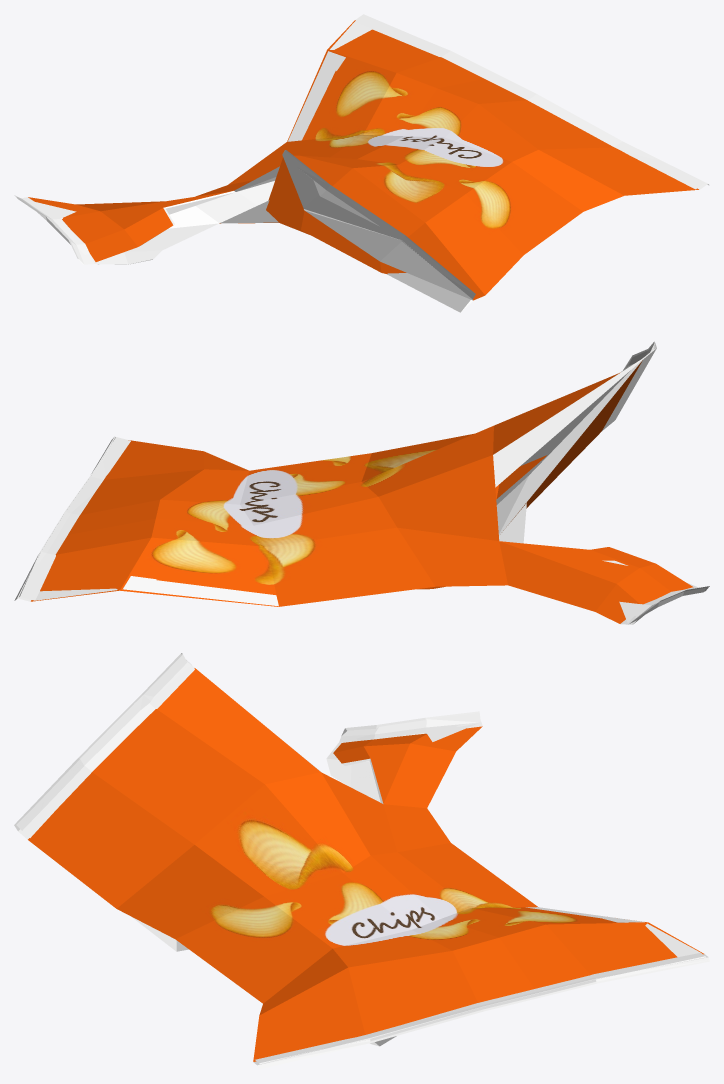
File: chips-orange.gltf
The picture shows the model from 3 angles, top to bottom: view 1: azimuth 30°, elevation 25°; view 2: azimuth 150°, elevation 25°; view 3: azimuth 270°, elevation 25°; orthographic projection. The views are drawn at different scales.
Parts seen in each view (by area): view 1: Cube; view 2: Cube; view 3: Cube.
Boxes of the visible parts, bbox=[...] form: Cube: bbox=[14, 14, 709, 312]; Cube: bbox=[14, 341, 709, 624]; Cube: bbox=[14, 653, 709, 1069].
Bounding box in the file's own units: 1.82 × 0.6199 × 1.79.
Materials: 2 (1 with a texture image).
